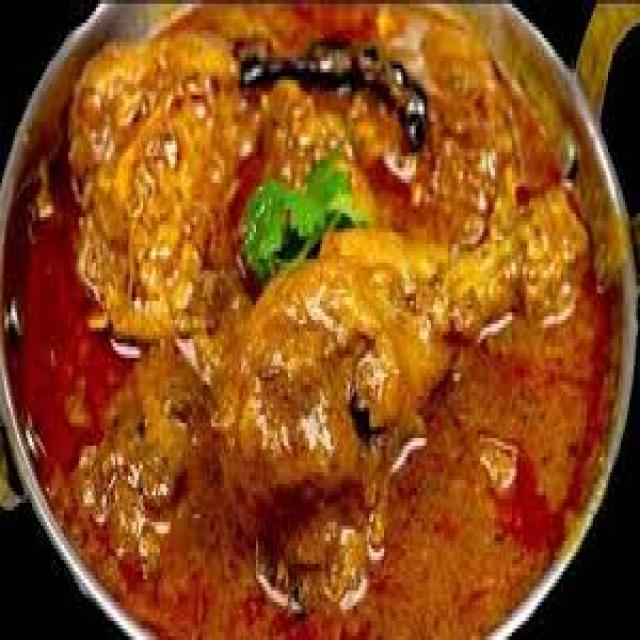Frango: (11, 11, 629, 625)
